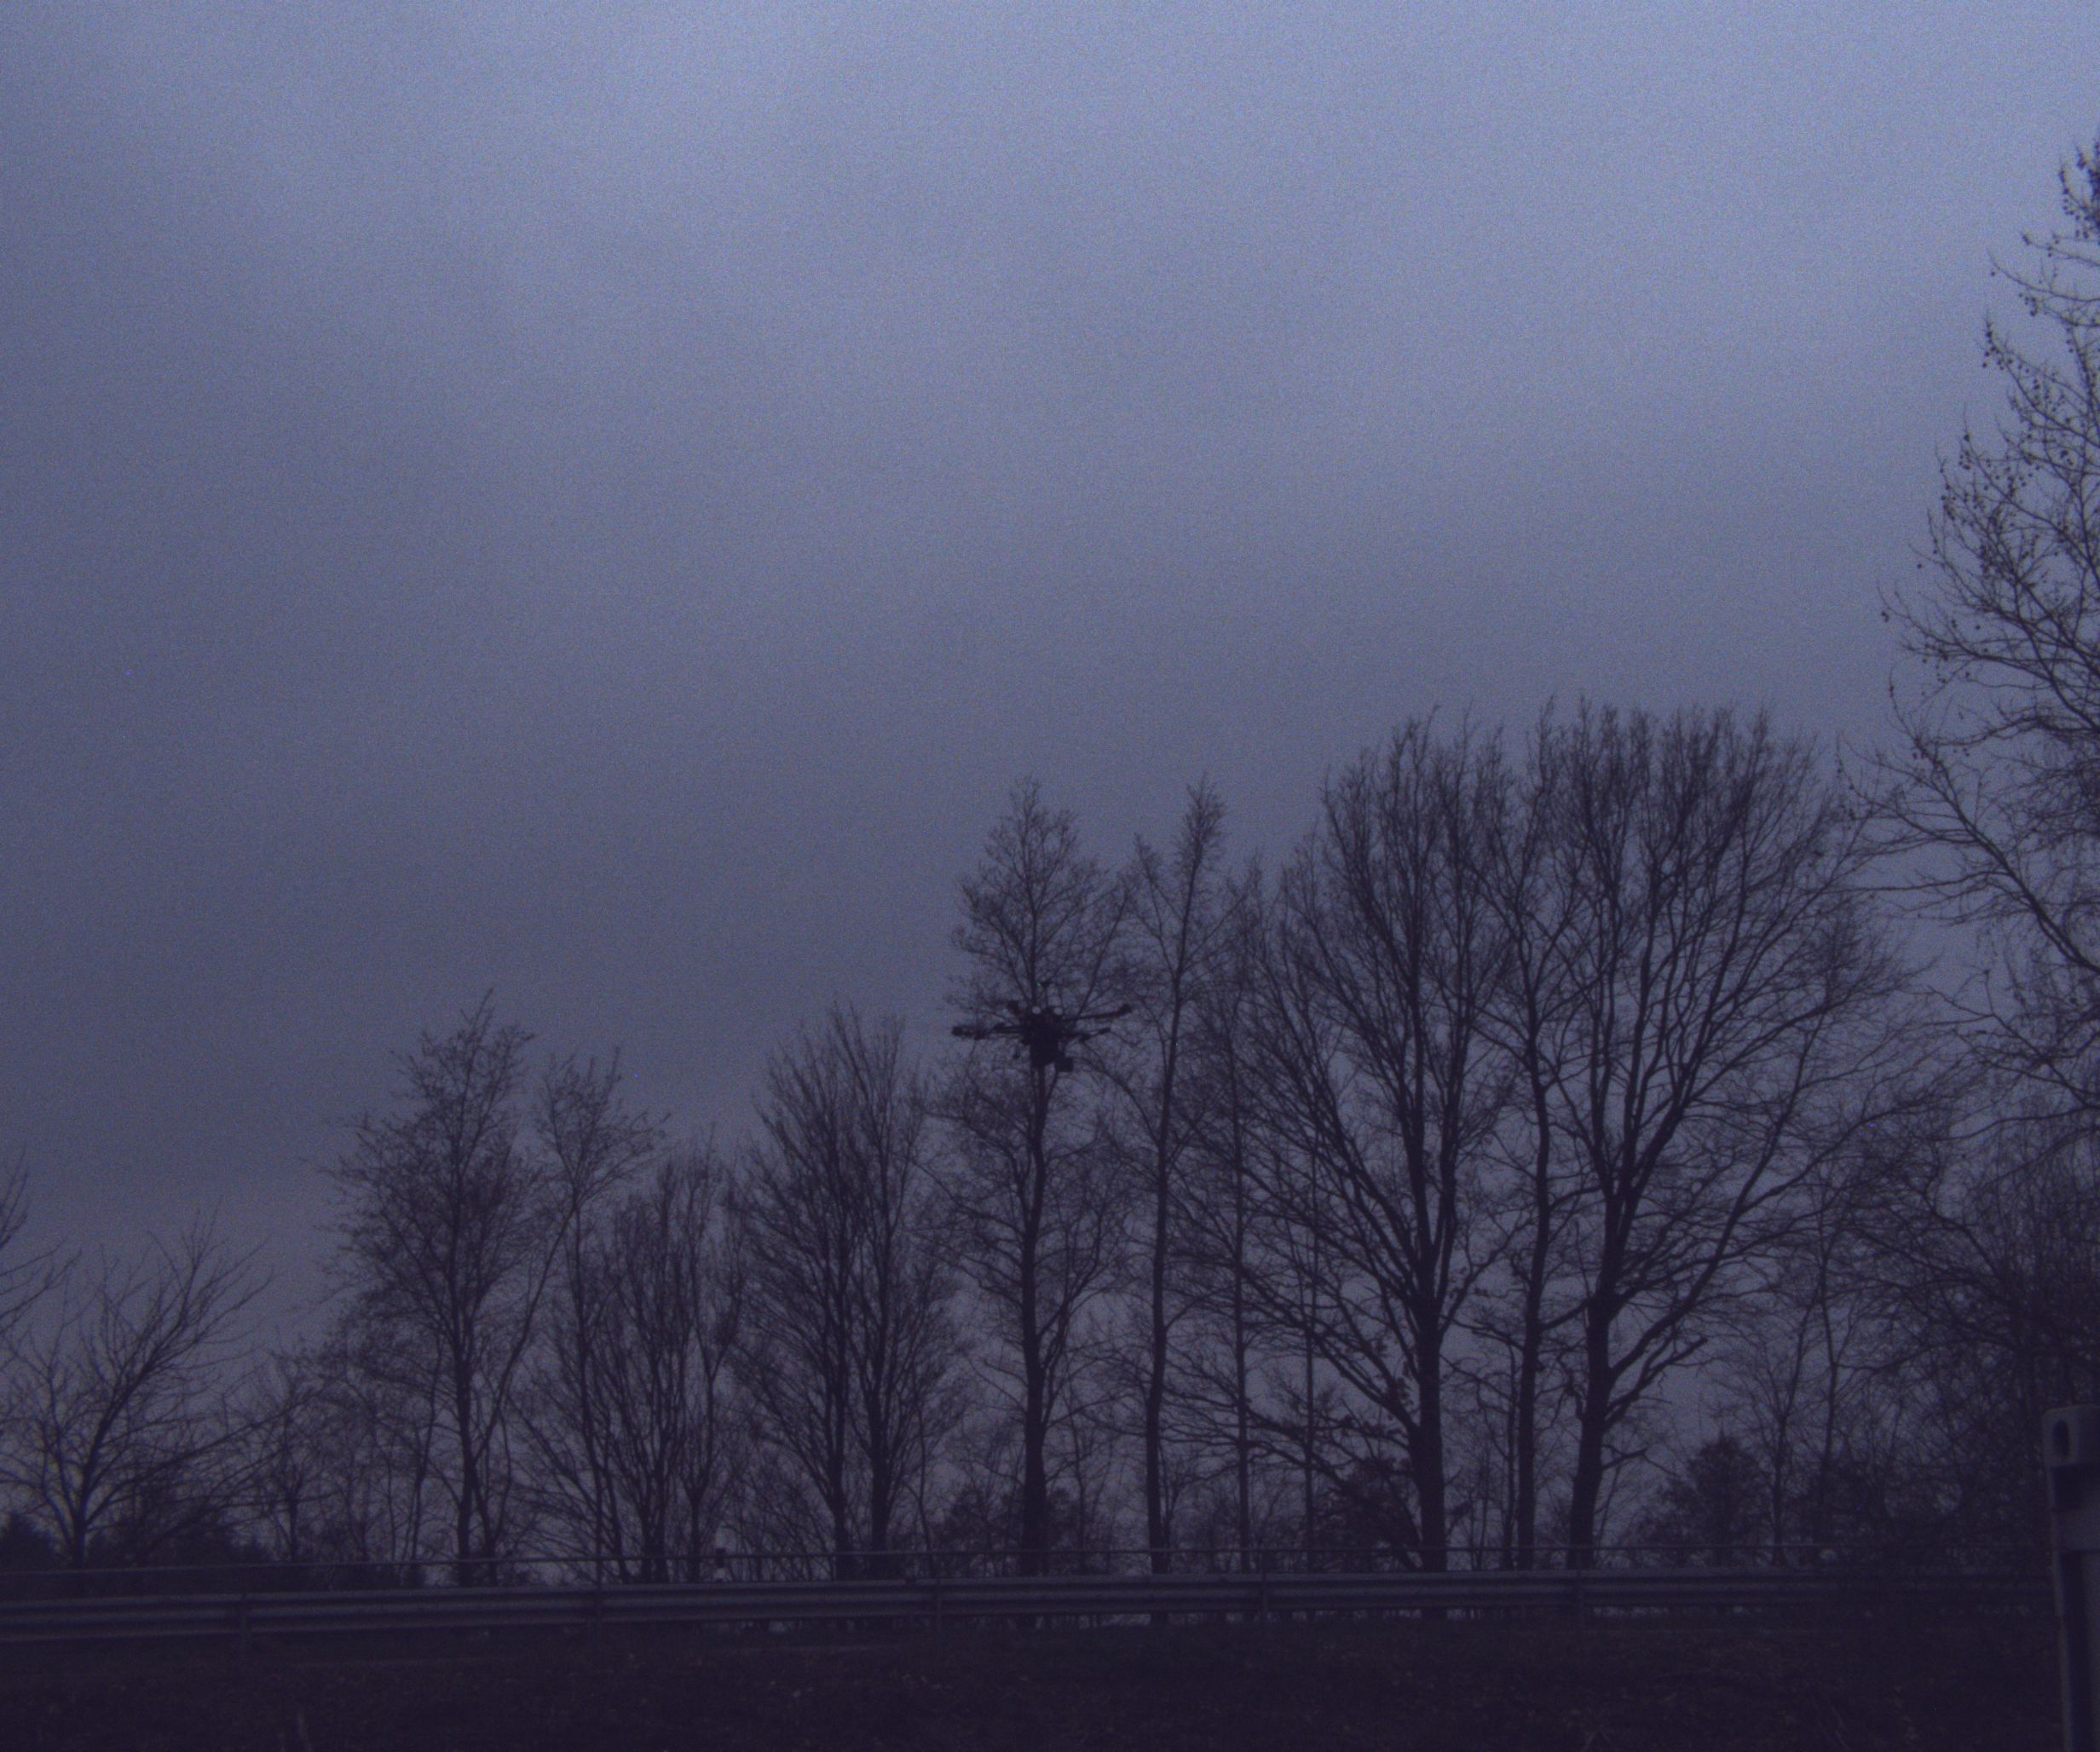Drohne: (923, 987, 1289, 1142)
